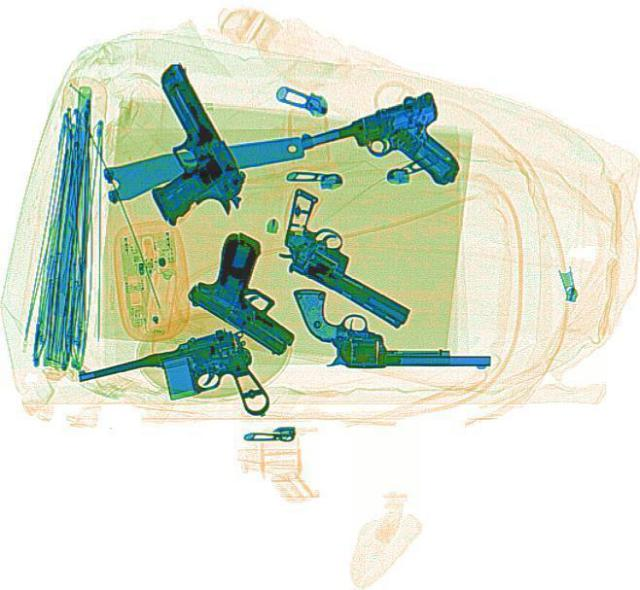Gun: (93, 58, 259, 235), (250, 184, 442, 326), (70, 320, 272, 449), (292, 87, 468, 216), (172, 224, 338, 356), (292, 287, 490, 367)
